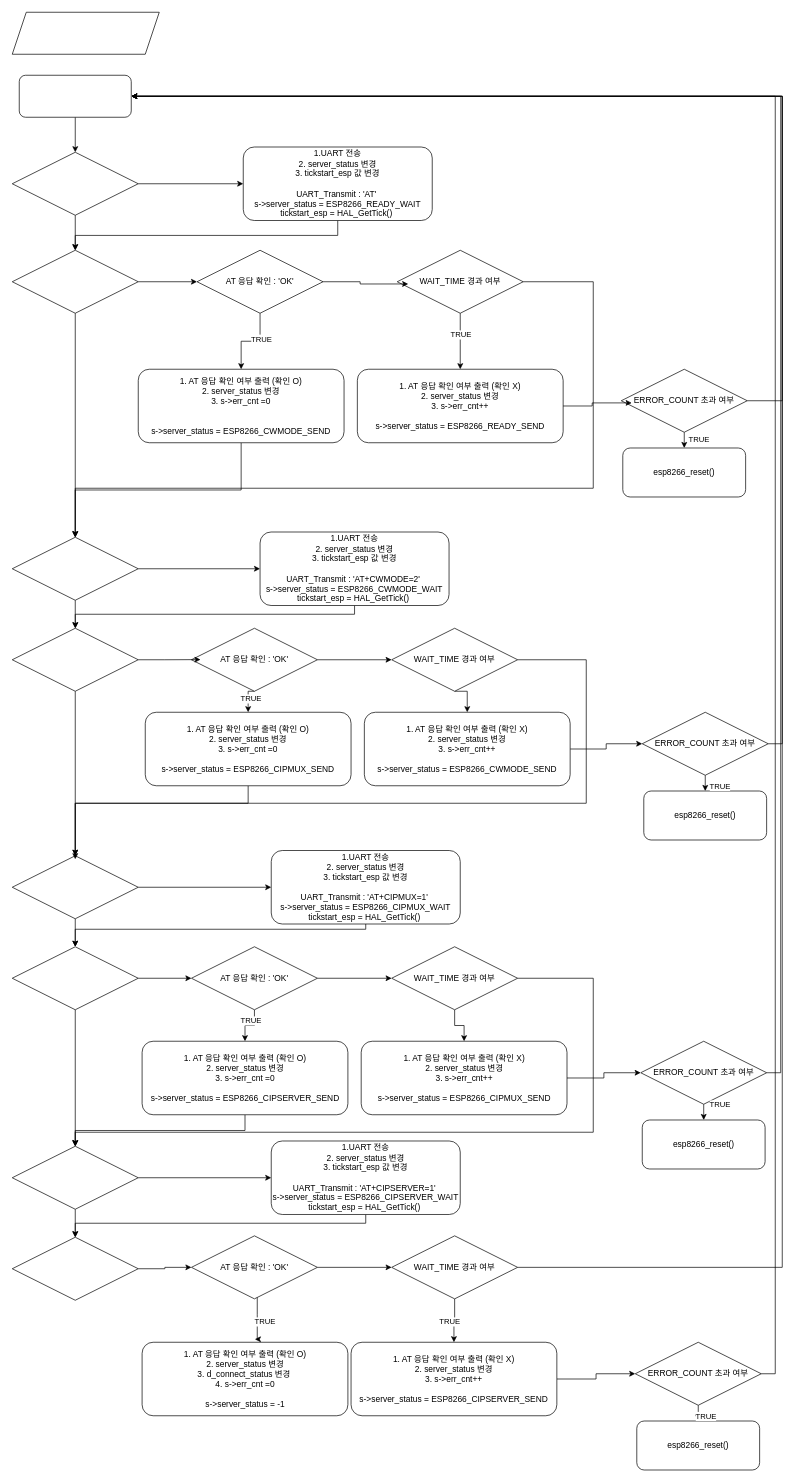
This 800x1483 diagram has some shape labels left out. The centre of each missing label's shape, as x and y in pixels:
#define ERROR_COUNT #define WAIT_TIME: (x=85, y=33)
[case] ESP8266_CIPMUX_SEND: (x=75, y=887)
[case] ESP8266_CIPMUX_WAIT: (x=75, y=978)
[case] ESP8266_CIPSERVER_SEND: (x=75, y=1177)
[case] ESP8266_CIPSERVER_WAIT: (x=75, y=1268)
[case] ESP8266_CWMODE_SEND: (x=75, y=568)
[case] ESP8266_CWMODE_WAIT: (x=75, y=659)
[case] ESP8266_READY_SEND: (x=75, y=183)
[case] ESP8266_READY_WAIT: (x=75, y=281)
switch (s->server_status): (x=75, y=96)
